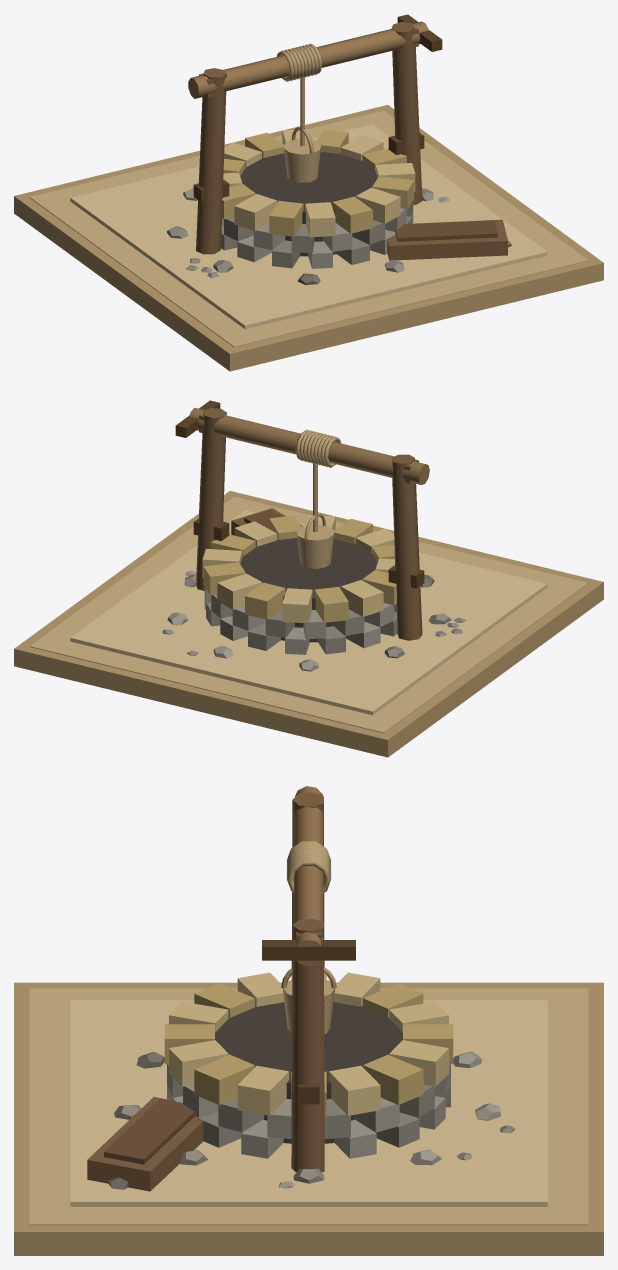
File: civic-neolithic-village-well-built.glb
The picture shows the model from 3 angles, top to bottom: view 1: azimuth 30°, elevation 25°; view 2: azimuth 150°, elevation 25°; view 3: azimuth 270°, elevation 25°; orthographic projection. The views are drawn at different scales.
Bounding box in the file's own units: 9.4 × 4.82 × 9.4.
Materials: 16 (1 with a texture image).
